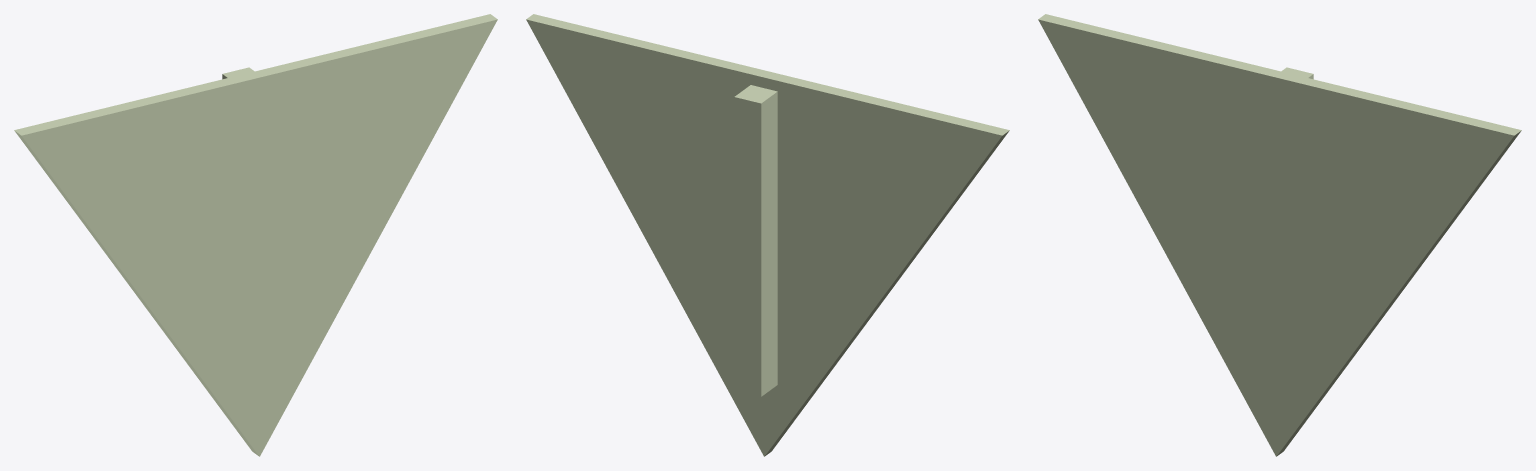
Rendered from furniture_sign_back_triangle.glb.
The picture shows the model from 3 angles, left to right: view 1: azimuth 30°, elevation 25°; view 2: azimuth 150°, elevation 25°; view 3: azimuth 330°, elevation 25°; orthographic projection.
Visible parts, largest first — view 1: back_plate; view 2: back_plate, stiffener_0; view 3: back_plate.
Part boxes in pixels (x1,y1,x2,y2): back_plate: [14, 14, 497, 456]; back_plate: [526, 14, 1009, 456]; stiffener_0: [734, 85, 777, 396]; back_plate: [1038, 14, 1521, 456].
Bounding box in the file's own units: 0.8836 × 0.6724 × 0.077.
